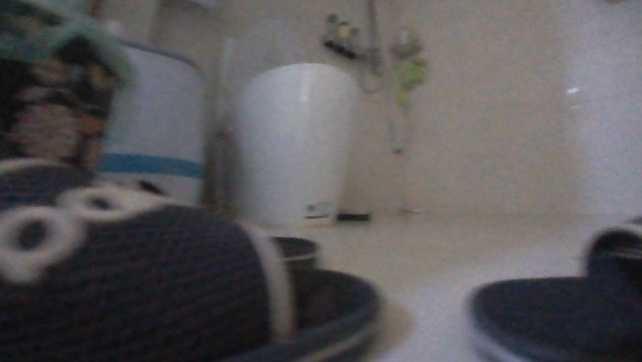toilet: (213, 20, 357, 233)
